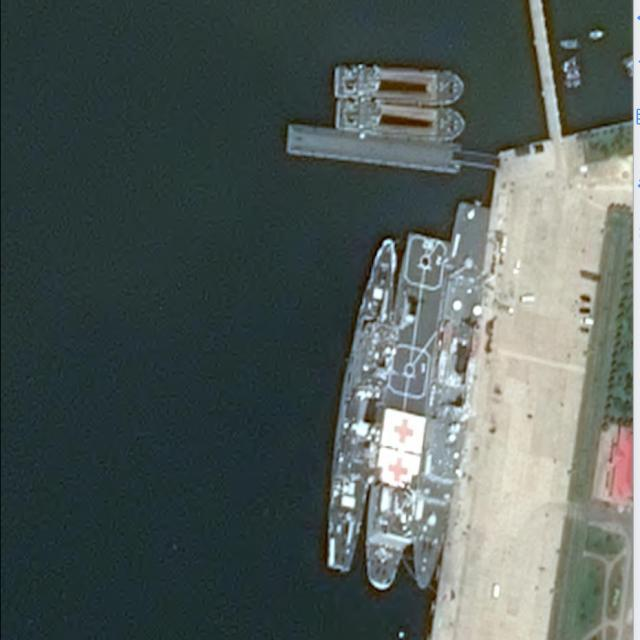Auxiliary Ships: (359, 231, 449, 593)
Landing: (398, 198, 498, 590)
Other Warship: (319, 233, 402, 577), (333, 62, 464, 106), (333, 102, 467, 140)
